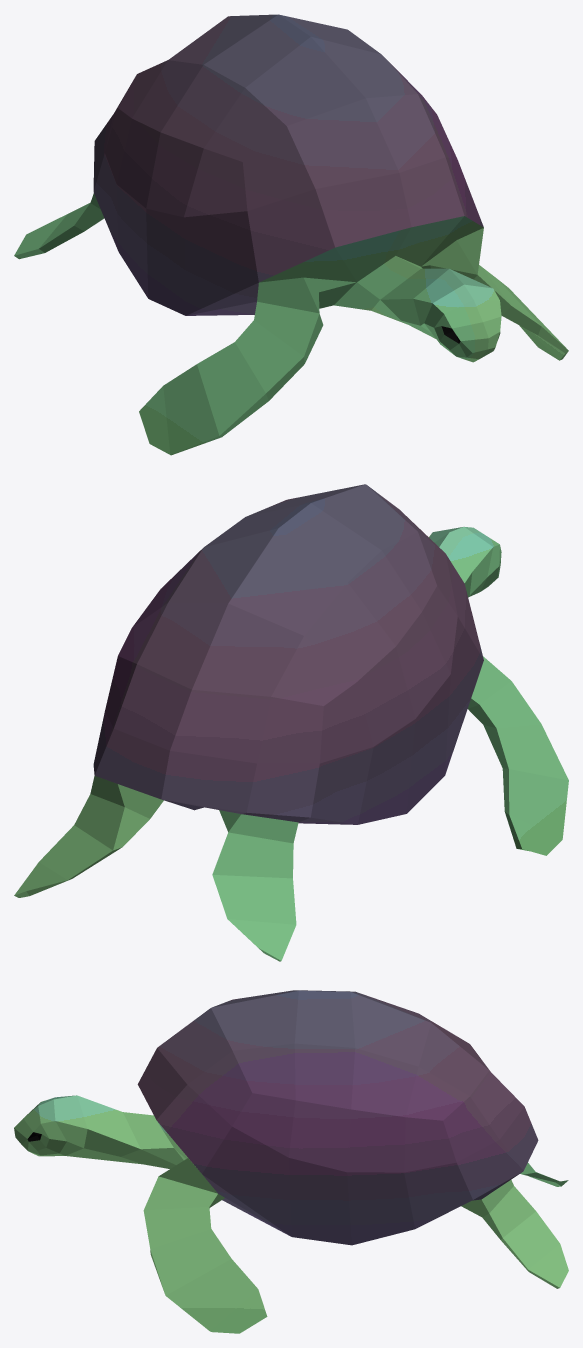
Rendered from Turtle.fbx.
3 views of the same model, one above another, from view 1: azimuth 30°, elevation 25°; view 2: azimuth 150°, elevation 25°; view 3: azimuth 270°, elevation 25° (orthographic). The views are drawn at different scales.
Parts seen in each view (by area): view 1: Turtle; view 2: Turtle; view 3: Turtle.
Boxes of the visible parts, box(x1,y1,x2,y2) form: Turtle: box(14, 14, 568, 455); Turtle: box(14, 484, 568, 961); Turtle: box(14, 990, 568, 1333).
Size of the model in its own units: 0.9827 by 0.7848 by 1.49.
